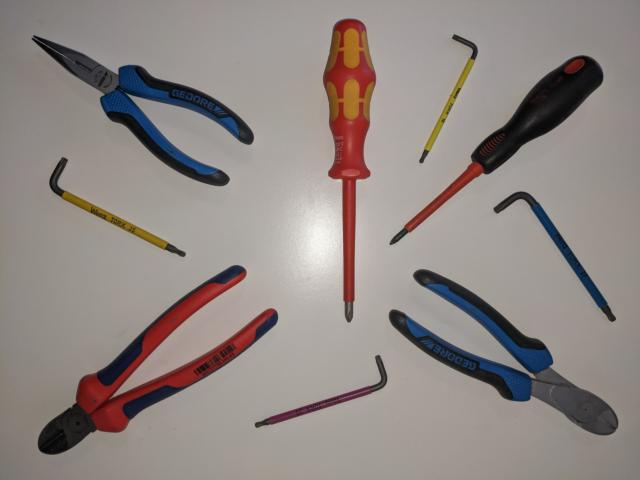Inbusschlüssel: (492, 189, 620, 327), (46, 154, 190, 259), (250, 351, 389, 432), (414, 33, 481, 167)
Schraubendreher: (385, 52, 607, 250), (320, 15, 380, 326)
Seitenschneider: (34, 263, 282, 459), (386, 266, 623, 439)
Zange: (27, 33, 257, 188)
